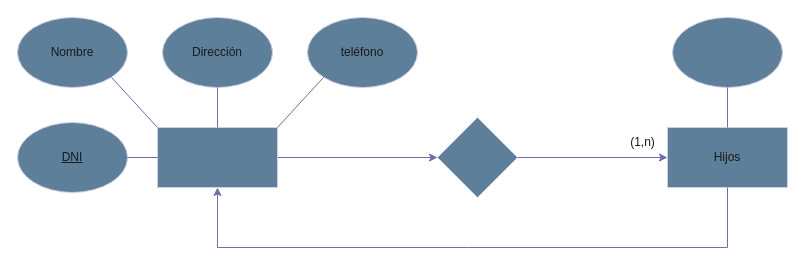
The diagram is 805 pixels wide and 273 high, and some of its shapes have lost their labels. Each missing label, with the box of its shape:
Padres: (672, 16, 782, 88)
Persona: (156, 126, 278, 188)
Tiene: (436, 116, 518, 198)
